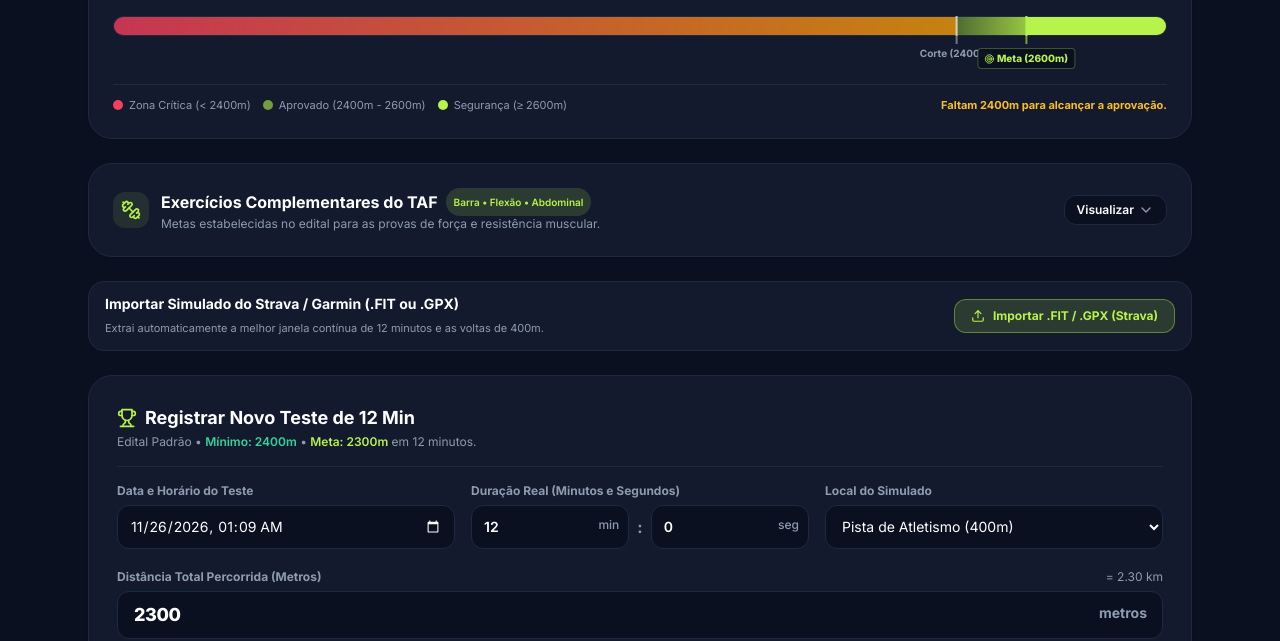
it: Fase 9 — Importação de .FIT / .GPX como Simulado TAF (TafAttempt) › permite importar diretamente pela página /meu-taf atualizando histórico e badges sem quebrar o formulário padrão
Later steps or results of the test are not shown.
(page scrolled)
Step 1. Click the button with test id "meu-taf-import-btn" → (1064, 316), box [954,298,1175,332]
(page scrolled)
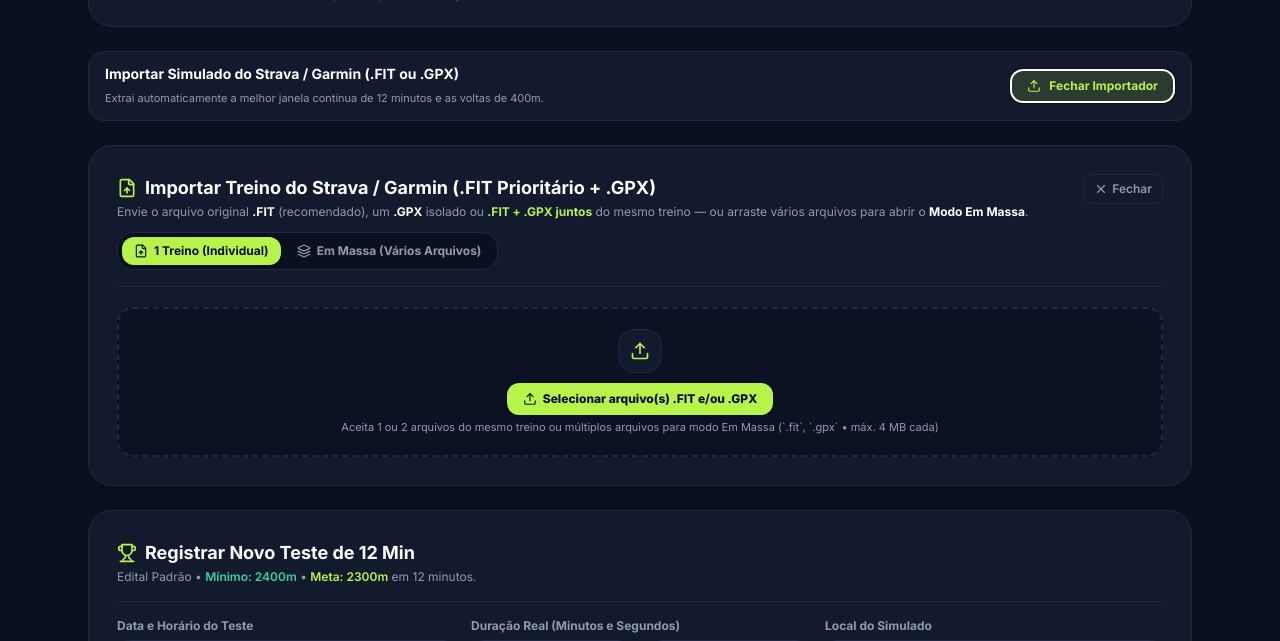
expect the element with test id "gpx-import-panel" is shown: met, box [88,144,1192,486]
